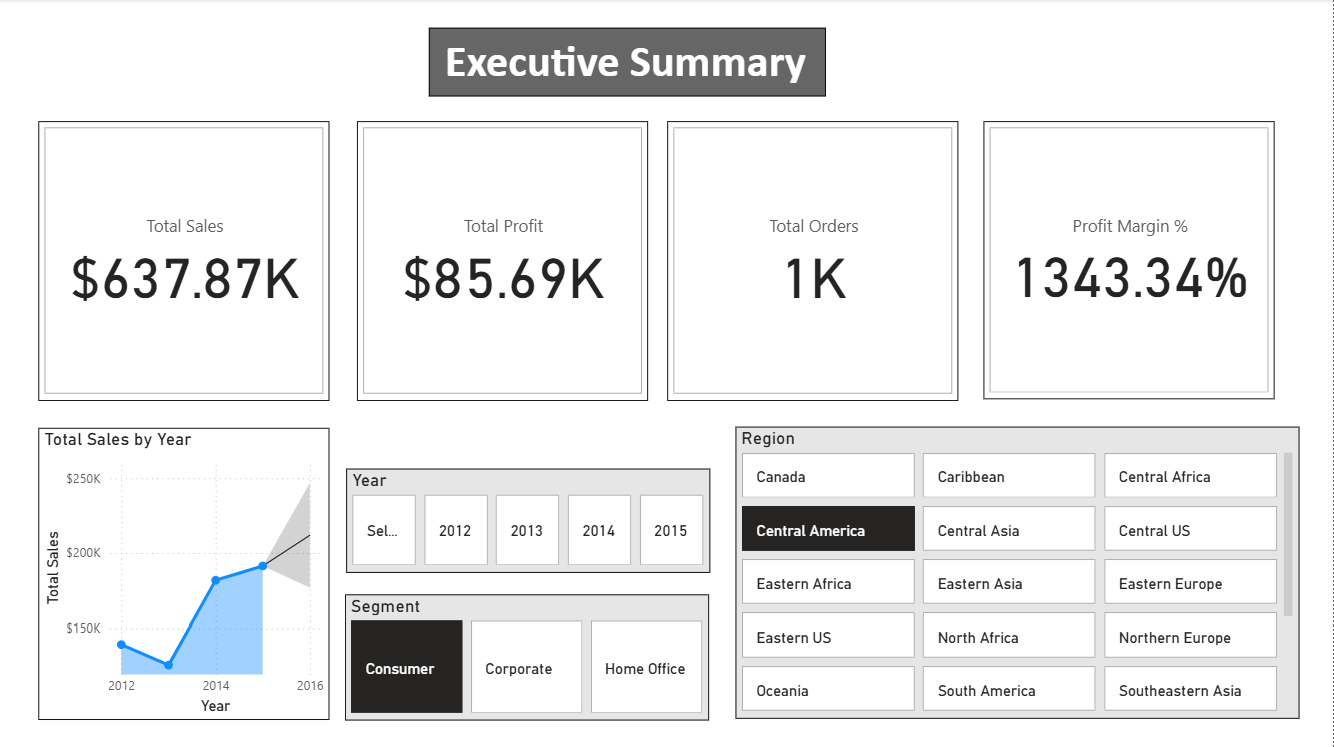

What the dashboard file says about the page in this screenshot:
{"tool":"powerbi","page":{"name":"Executive Summary","canvas":[1280,720],"ordinal":0},"visuals":[{"type":"cardVisual","fields":{"Data":["Orders.Total Sales"]},"box":[37.1,117.1,280,268.6],"z":0},{"type":"cardVisual","fields":{"Data":["Orders.Total Profit"]},"box":[342.9,117.1,280,268.6],"z":1000},{"type":"cardVisual","fields":{"Data":["Orders.Total Orders"]},"box":[641.4,117.1,280,268.6],"z":2000},{"type":"cardVisual","fields":{"Data":["Orders.Profit Margin %"]},"box":[944.3,117.1,280,267.1],"z":3000},{"type":"lineChart","fields":{"Category":["Orders.Order Date.Variation.Date Hierarchy.Year","Orders.Order Date.Variation.Date Hierarchy.Quarter","Orders.Order Date.Variation.Date Hierarchy.Month","Orders.Order Date.Variation.Date Hierarchy.Day"],"Y":["Orders.Total Sales"]},"box":[37.1,411.4,280,280],"z":4000},{"type":"advancedSlicerVisual","fields":{"Values":["Orders.Order Date.Variation.Date Hierarchy.Year"]},"box":[332.9,451.4,350,100],"z":5000},{"type":"advancedSlicerVisual","fields":{"Values":["Orders.Region"]},"box":[706.9,411.3,541.4,280],"z":6000},{"type":"advancedSlicerVisual","fields":{"Values":["Orders.Segment"]},"box":[331.4,571.4,350,120],"z":7000},{"type":"textbox","box":[411.4,27.1,381.4,65.7],"z":8000}]}

Visuals, with their boxes in screenshot pixels (x1, y1, x2, y2), scaled from the page's 1280x720 canvas onto the 1334x747 screenshot:
cardVisual - Orders.Total Sales: [39,121,330,400]
cardVisual - Orders.Total Profit: [357,121,649,400]
cardVisual - Orders.Total Orders: [668,121,960,400]
cardVisual - Orders.Profit Margin %: [984,121,1276,399]
lineChart - Orders.Order Date.Variation.Date Hierarchy.Year x Orders.Order Date.Variation.Date Hierarchy.Quarter: [39,427,330,717]
advancedSlicerVisual - Orders.Order Date.Variation.Date Hierarchy.Year: [347,468,712,572]
advancedSlicerVisual - Orders.Region: [737,427,1301,717]
advancedSlicerVisual - Orders.Segment: [345,593,710,717]
textbox: [429,28,826,96]
